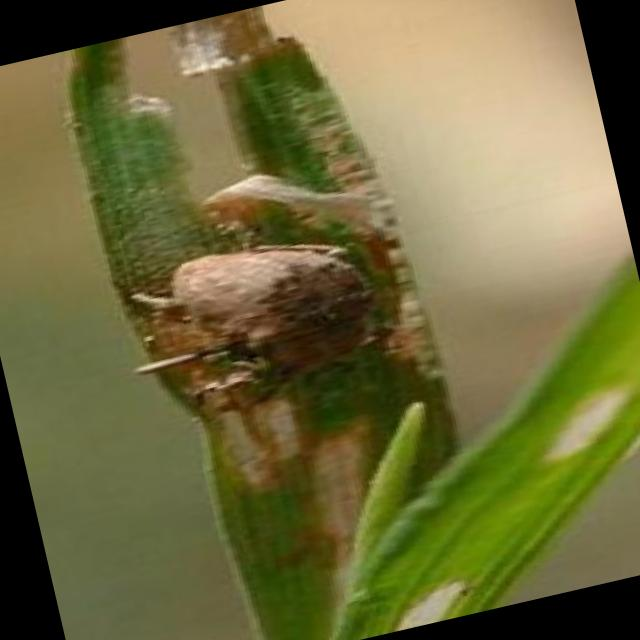rice-bug: (112, 204, 438, 418)
